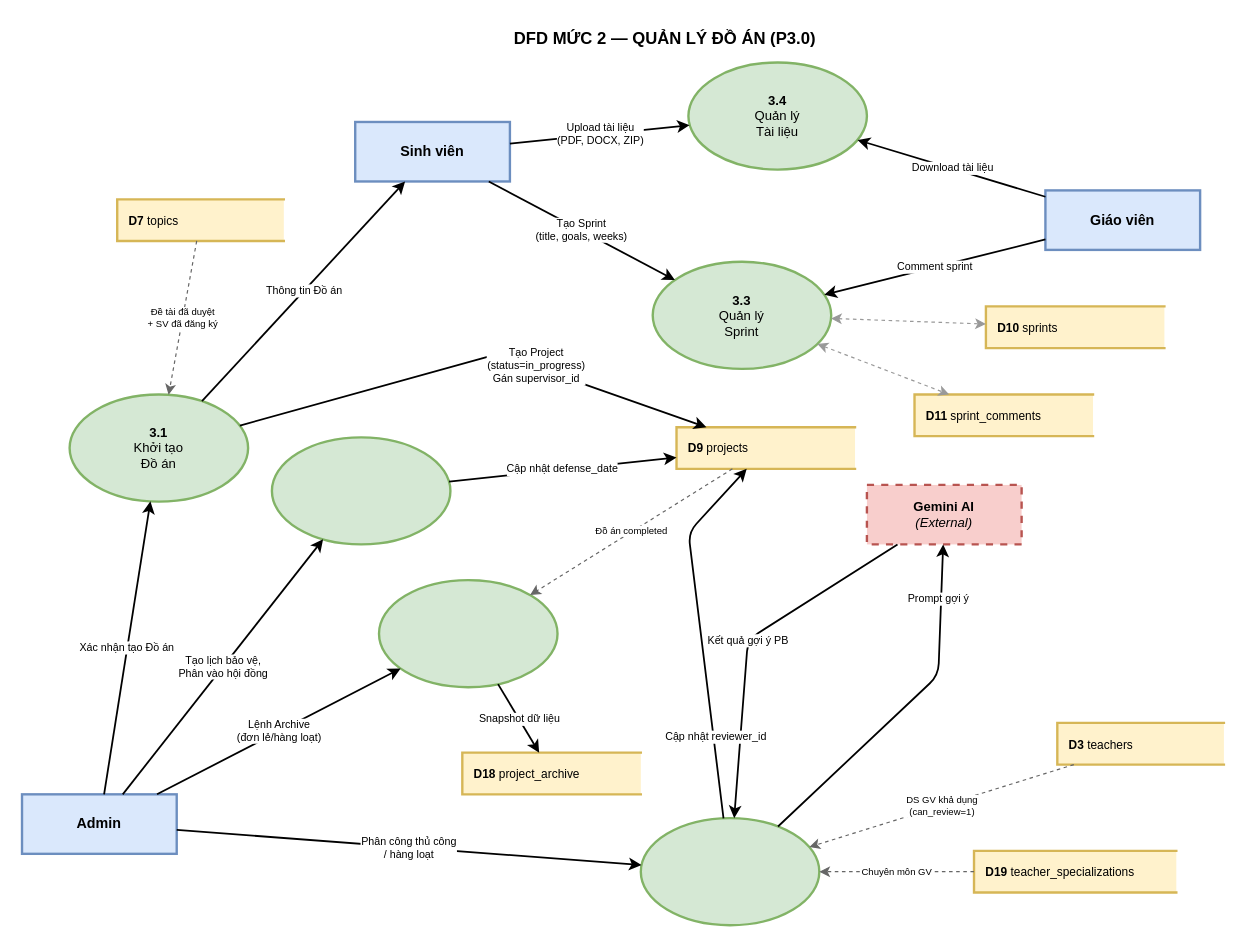
The diagram is 1245 pixels wide and 946 high, and some of its shapes have lost their labels. Each missing label, with the centre of its shape:
"3.2 Phân công GV Phản biện" belongs at point (729, 871).
"3.5 Lập lịch Bảo vệ" belongs at point (360, 490).
"3.6 Lưu trữ (Archive)" belongs at point (467, 633).
